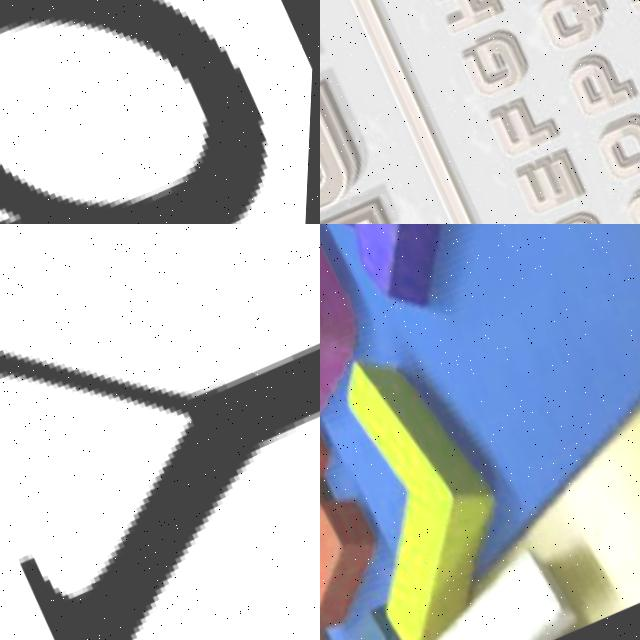6: (0, 0, 319, 224)
A: (320, 379, 415, 640)
G: (320, 224, 400, 450)
L: (320, 331, 548, 640)
N: (320, 224, 543, 339)
W: (320, 571, 368, 640)
Y: (0, 224, 320, 640)
